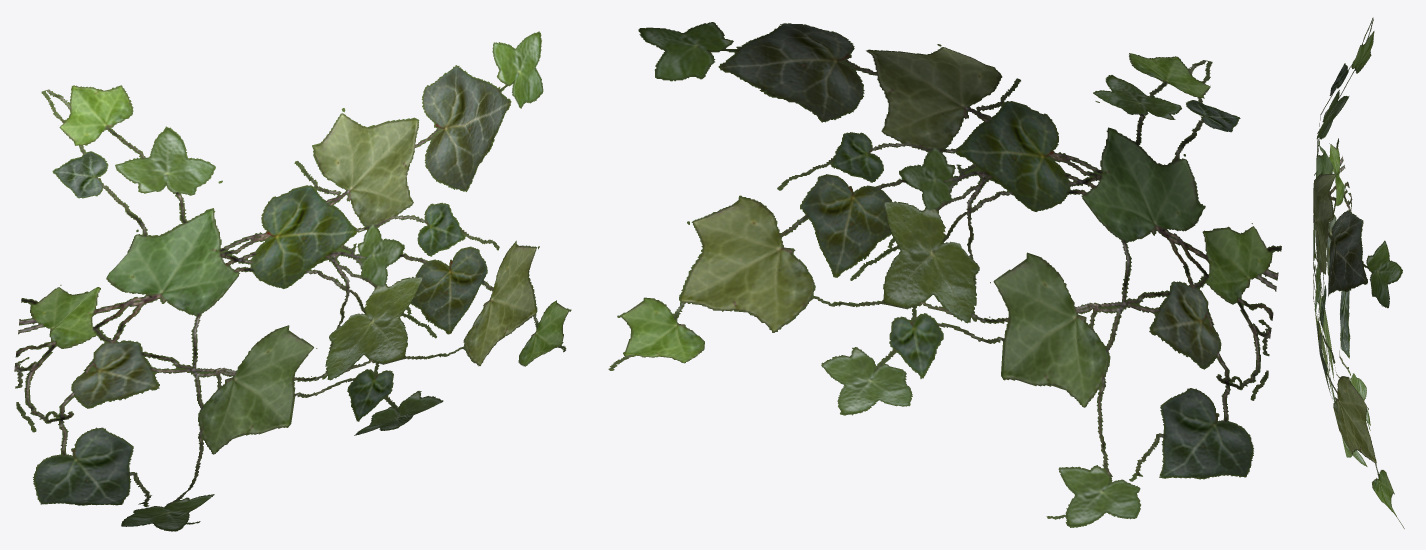
Rendered from ivy.obj.
The picture shows the model from 3 angles, left to right: view 1: azimuth 30°, elevation 25°; view 2: azimuth 150°, elevation 25°; view 3: azimuth 270°, elevation 25°; orthographic projection. The views are drawn at different scales.
Visible parts, largest first — view 1: ivy_ivy_branch; view 2: ivy_ivy_branch; view 3: ivy_ivy_branch.
Part boxes in pixels (x1,y1,x2,y2): ivy_ivy_branch: [14, 31, 571, 531]; ivy_ivy_branch: [608, 22, 1281, 527]; ivy_ivy_branch: [1313, 17, 1404, 528].
Bounding box in the file's own units: 6.77 × 5.21 × 1.28.
